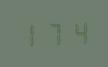four: (65, 19, 87, 45)
one: (18, 21, 40, 47)
seven: (42, 20, 64, 46)
